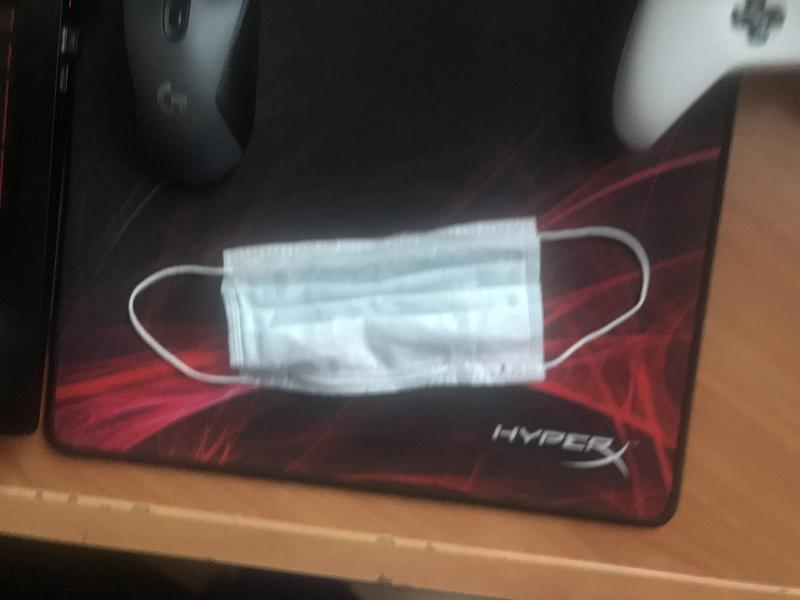medical_mask: (127, 217, 648, 393)
